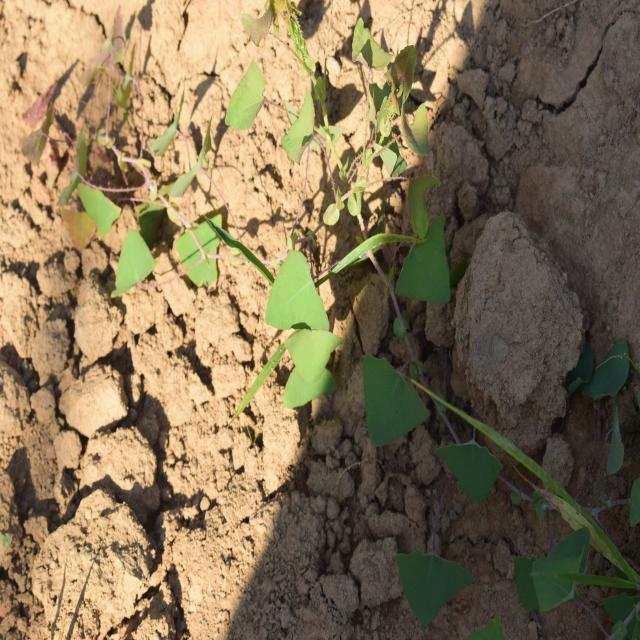Asiatic_Smartweed: (41, 65, 272, 288), (254, 230, 442, 458), (392, 533, 480, 628), (430, 419, 507, 513)
